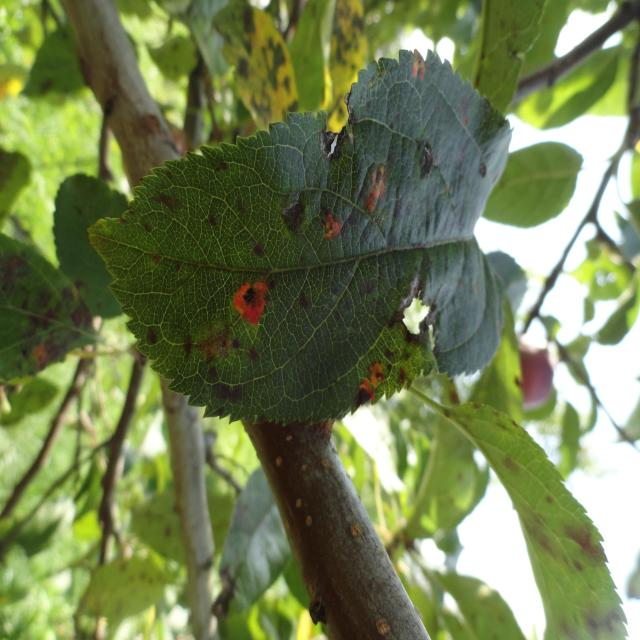Rust: (345, 356, 409, 431), (299, 176, 346, 262), (221, 270, 277, 340), (354, 144, 384, 239), (391, 45, 438, 93)
